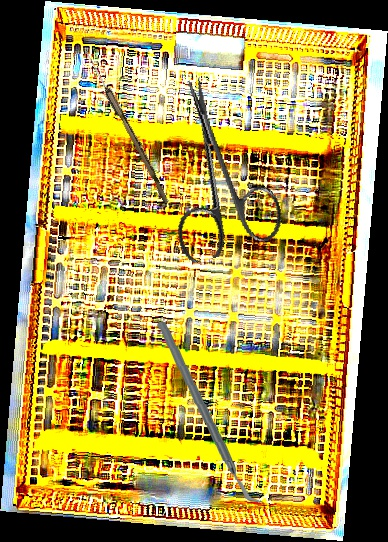Chopper: (155, 317, 264, 510)
Iris Scissors: (139, 66, 289, 266)
Surgical Spoon: (81, 49, 173, 204)
